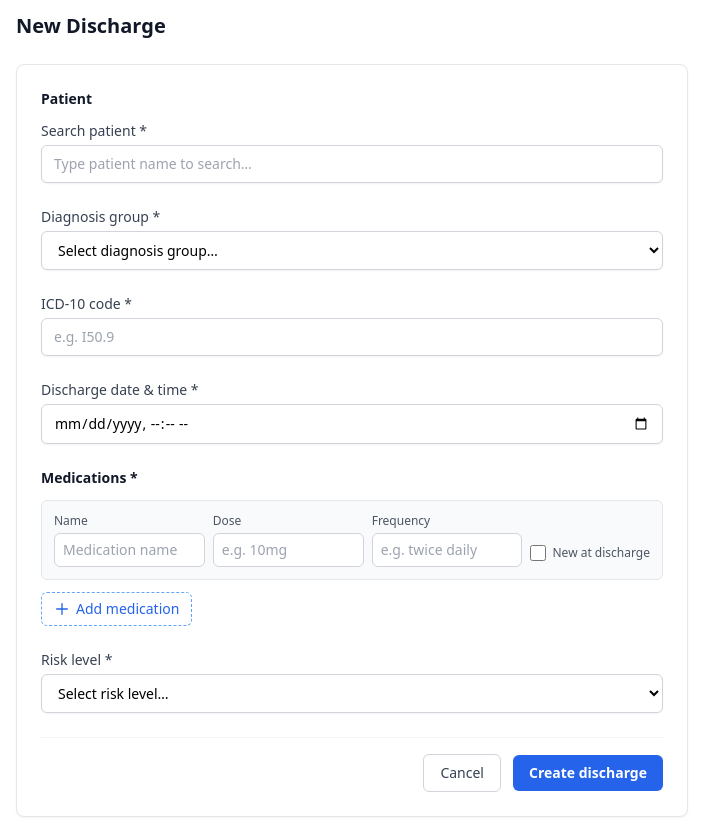
Test: 16.6 – Medication list editor › shows remove buttons for all rows when three rows exist
Click the button "Add medication".
click(117, 609)  # box 41,592 -> 192,626
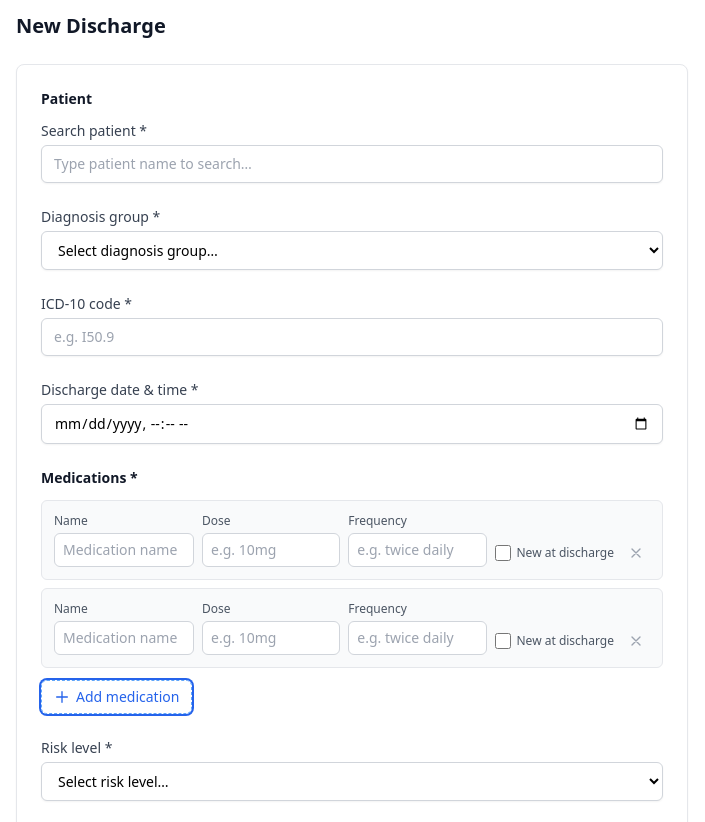
Click the button "Add medication".
click(117, 697)  # box 41,680 -> 192,714
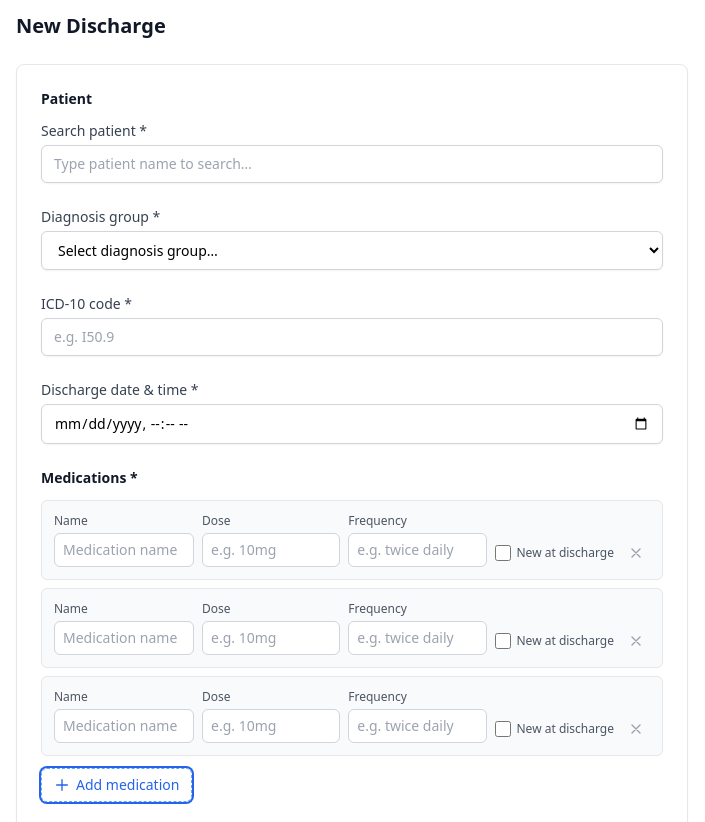
Check: the number of buttons named "remove medication row" is 3, box 622,539 -> 650,567; 622,627 -> 650,655; 622,715 -> 650,743
